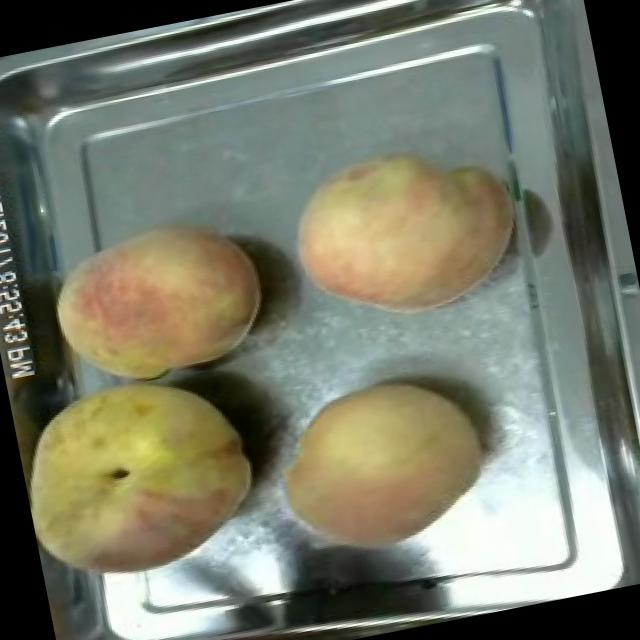Fruit: (9, 352, 277, 601), (256, 354, 508, 578), (276, 124, 535, 340), (34, 198, 280, 402)
